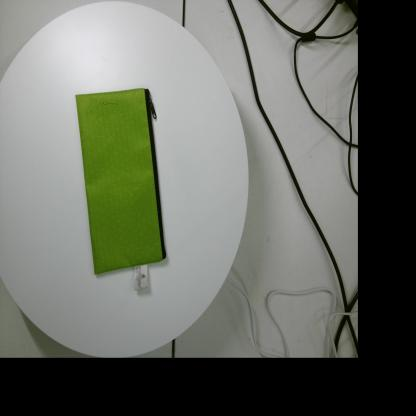Stationery: (75, 88, 166, 290)
